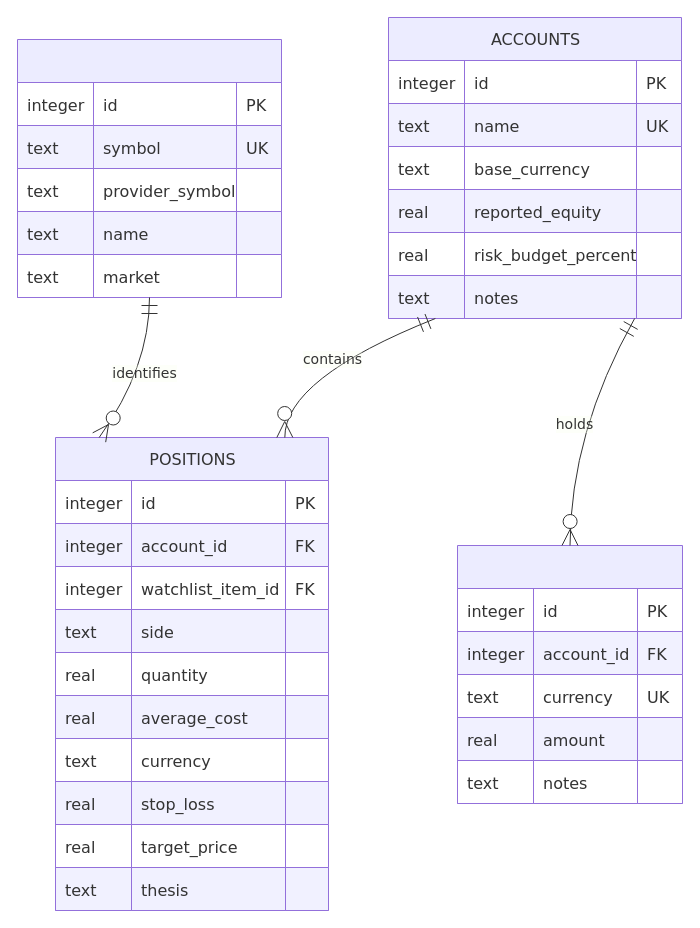
Image size: 700x928. Some labels were removed from this diagram. Here are the shapes that lost their labels. From the top down, the box of each, then its label:
(16, 38, 282, 298): WATCHLIST_ITEMS
(456, 544, 682, 804): CASH_BALANCES
